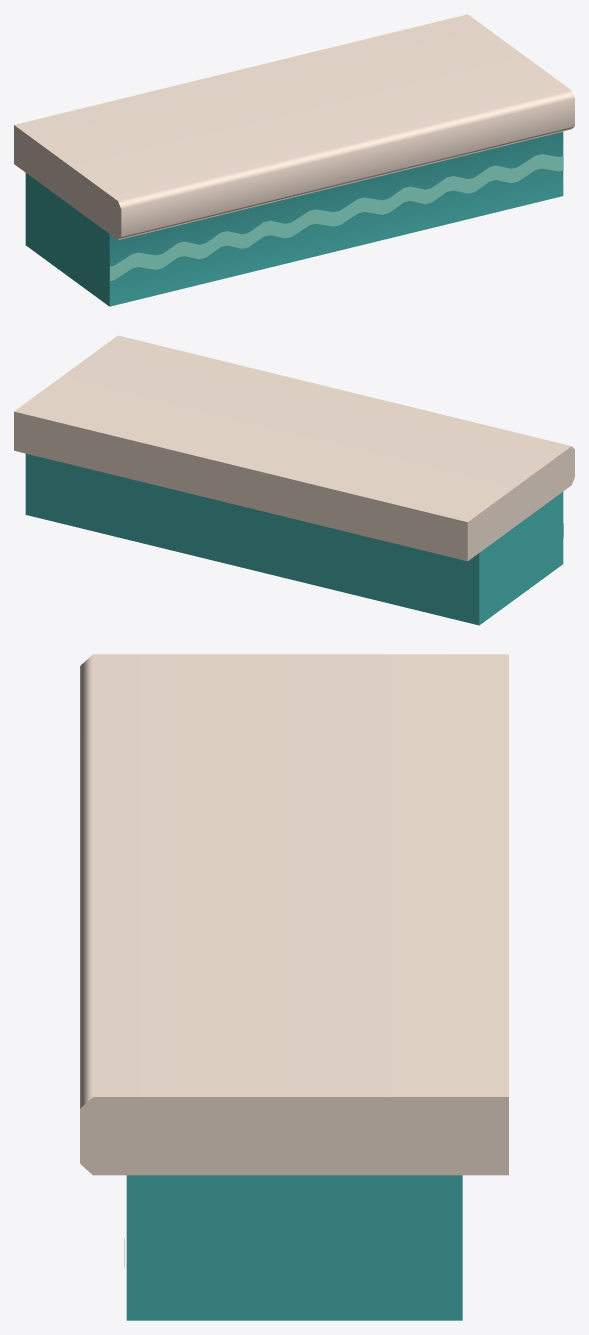
File: Decor_Banbar_B_03.fbx
3 views of the same model, one above another, from view 1: azimuth 30°, elevation 25°; view 2: azimuth 150°, elevation 25°; view 3: azimuth 270°, elevation 25° (orthographic). The views are drawn at different scales.
Parts seen in each view (by area): view 1: Decor_Banbar_B_03; view 2: Decor_Banbar_B_03; view 3: Decor_Banbar_B_03.
Boxes of the visible parts, bbox=[...] form: Decor_Banbar_B_03: bbox=[14, 14, 574, 306]; Decor_Banbar_B_03: bbox=[14, 335, 574, 625]; Decor_Banbar_B_03: bbox=[80, 654, 508, 1320].
Bounding box in the file's own units: 318 × 74.84 × 130.
